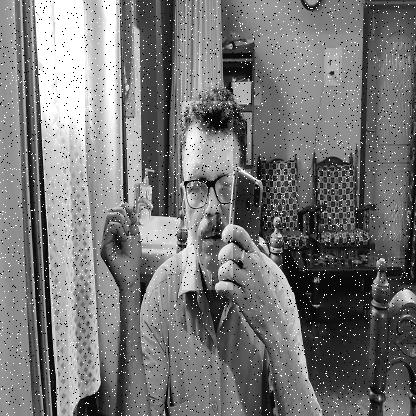Normal: (182, 101, 233, 290)
